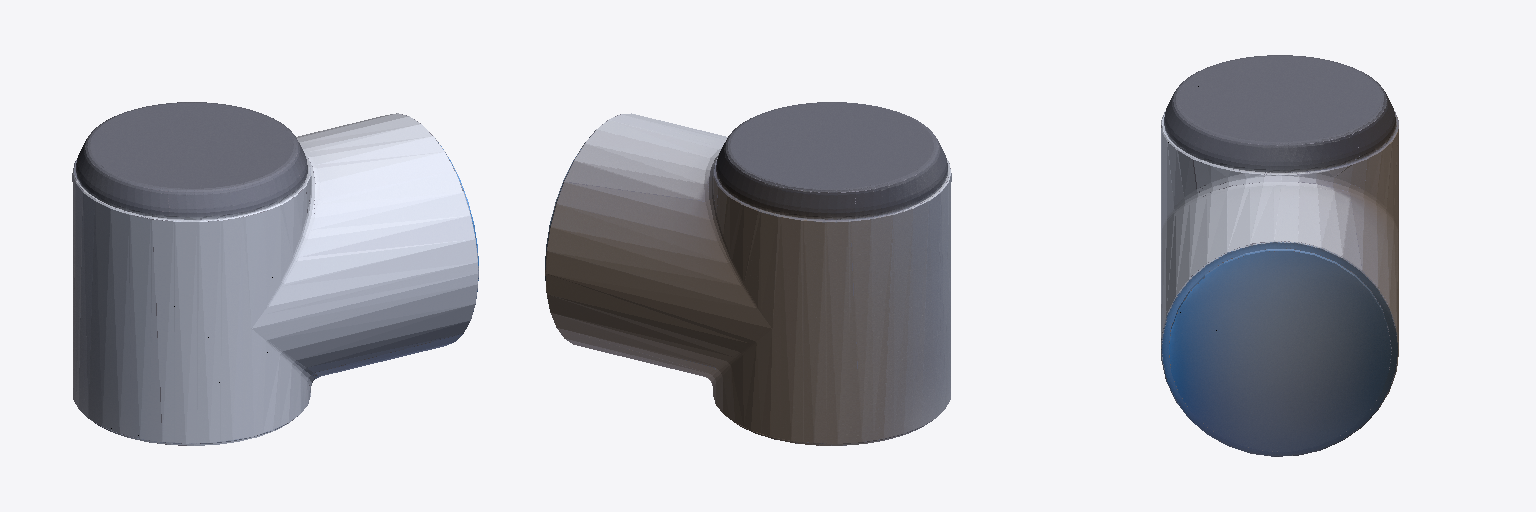
The picture shows the model from 3 angles: view 1: azimuth 30°, elevation 25°; view 2: azimuth 150°, elevation 25°; view 3: azimuth 270°, elevation 25°; orthographic projection.
Size of the model in its own units: 0.1685 by 0.121 by 0.104.
1 materials, 1 textured.